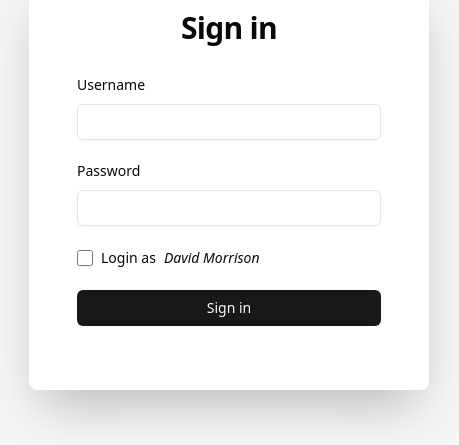
LoginPage › should fill in test user credentials when checkbox is checked
Click the checkbox labelled "Login as David Morrison". click: (85, 258)
box: [77,250,93,266]
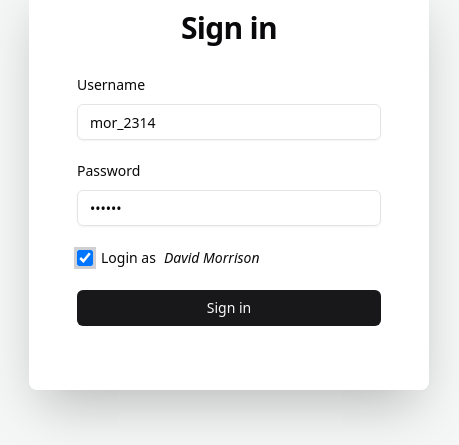
Expected: the field labelled "Username" holds "mor_2314", [77,104,381,140]
Expected: the password field labelled "Password" holds "83r5^_", [77,190,381,226]
